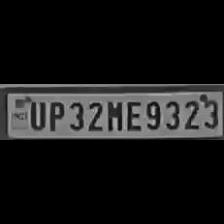2: (84, 99, 104, 131), (182, 97, 200, 130)
3: (65, 98, 84, 132), (200, 96, 218, 130), (162, 97, 180, 130)
9: (142, 98, 162, 130)
E: (123, 98, 141, 132)
M: (104, 98, 122, 132)
P: (46, 98, 64, 132)
U: (26, 98, 44, 130)
